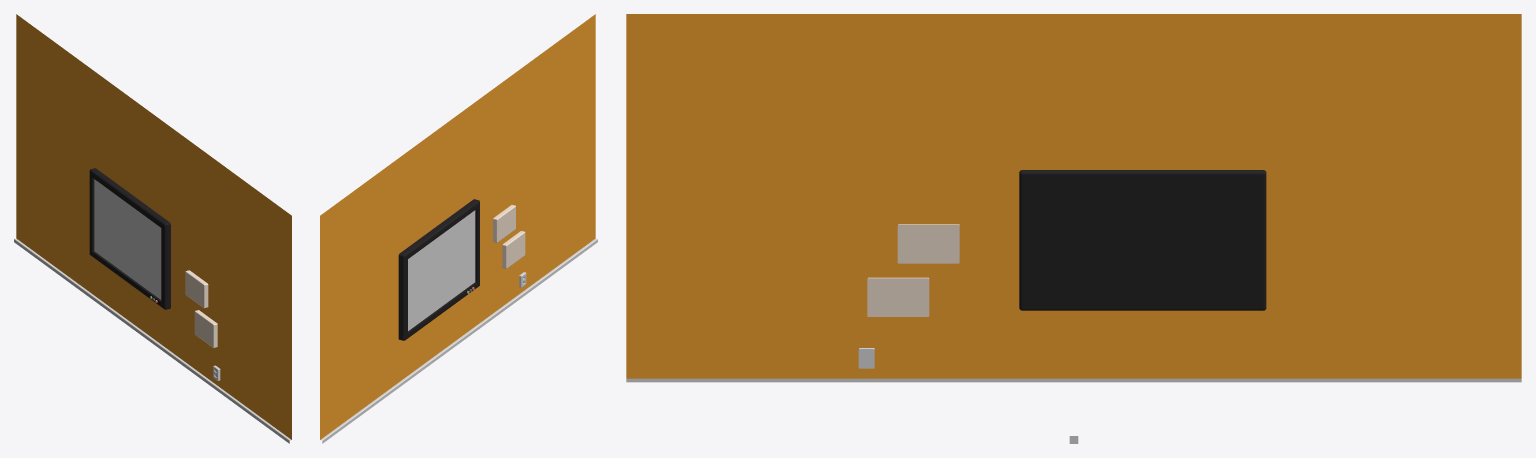
The model's file is stage.glb.
3 views of the same model, side by side, from view 1: azimuth 30°, elevation 25°; view 2: azimuth 150°, elevation 25°; view 3: azimuth 270°, elevation 25° (orthographic). The views are drawn at different scales.
Visible parts, largest first — view 1: 平面.001, 平面, 立方体, 立方体.003, 立方体.002; view 2: 平面.001, 平面, 立方体, 立方体.003, 立方体.002; view 3: 平面.001, 平面, 立方体, 立方体.002, 立方体.003.
Part boxes in pixels (x1,y1,x2,y2): 平面.001: (16, 14, 291, 438); 平面: (14, 93, 291, 443); 立方体: (89, 168, 170, 309); 立方体.003: (194, 310, 217, 347); 立方体.002: (185, 270, 208, 308); 平面.001: (320, 14, 595, 438); 平面: (320, 93, 597, 443); 立方体: (398, 199, 479, 340); 立方体.003: (502, 231, 525, 268); 立方体.002: (493, 205, 515, 242); 平面.001: (626, 14, 1521, 378); 平面: (626, 142, 1521, 382); 立方体: (1019, 170, 1266, 310); 立方体.002: (897, 224, 959, 263); 立方体.003: (867, 277, 929, 316).
Bounding box in the file's own units: 0.1711 × 2.85 × 5.26.
